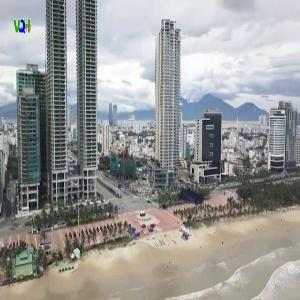drone: (149, 165, 230, 246)
